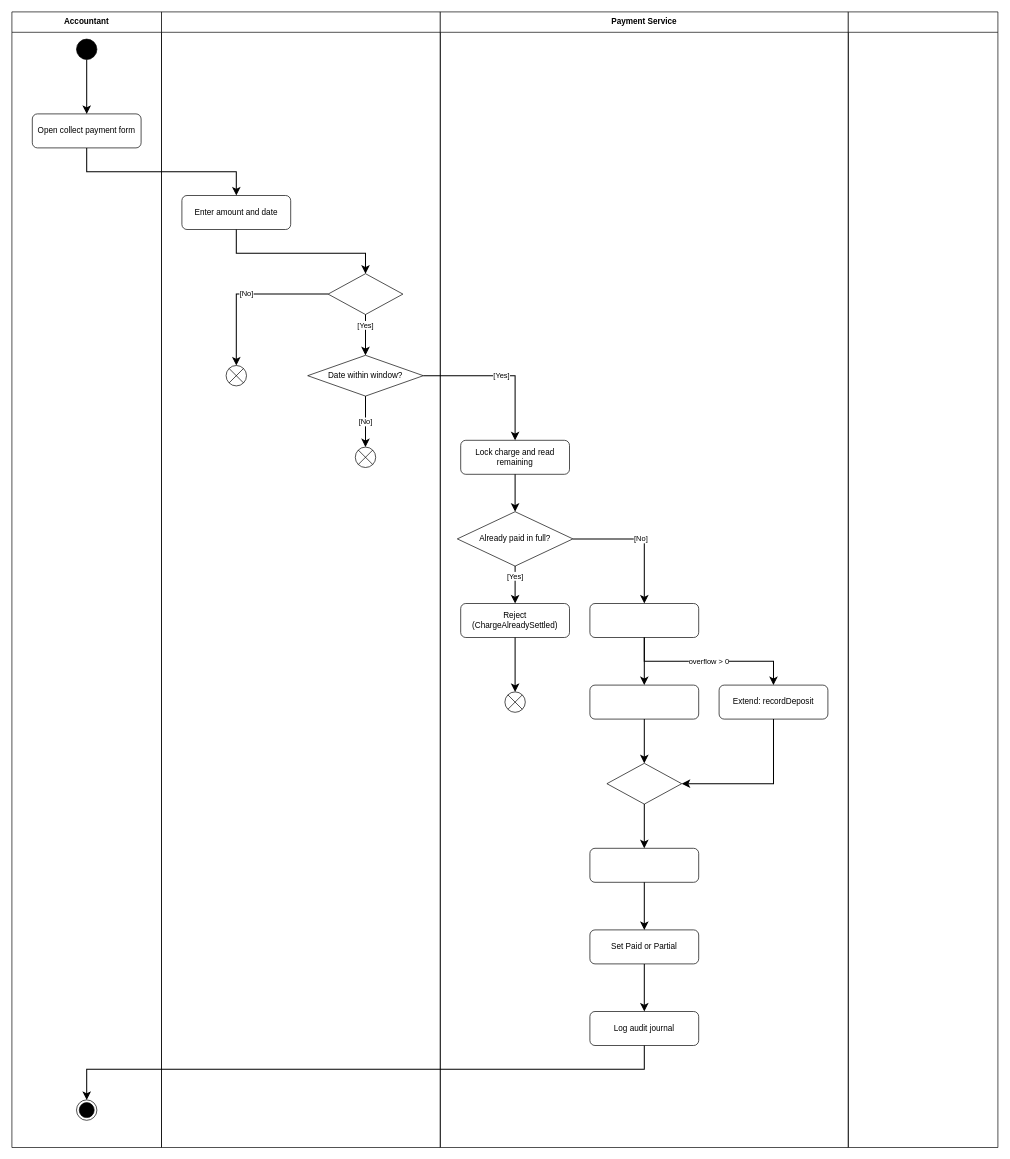
The diagram is 1010 pixels wide and 1159 high, and some of its shapes have lost their labels. The box of each missing label's shape, as (x1, y1, x2, y2) in pixels:
Amount > 0?: (327, 273, 403, 314)
Compute applied vs overflow: (589, 603, 699, 638)
Credit Pool: (848, 11, 998, 1148)
Extend: recordPayment: (589, 684, 699, 719)
Issue receipt: (589, 848, 699, 882)
Web App: (161, 11, 440, 1148)
